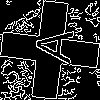A: (25, 25, 74, 64)
